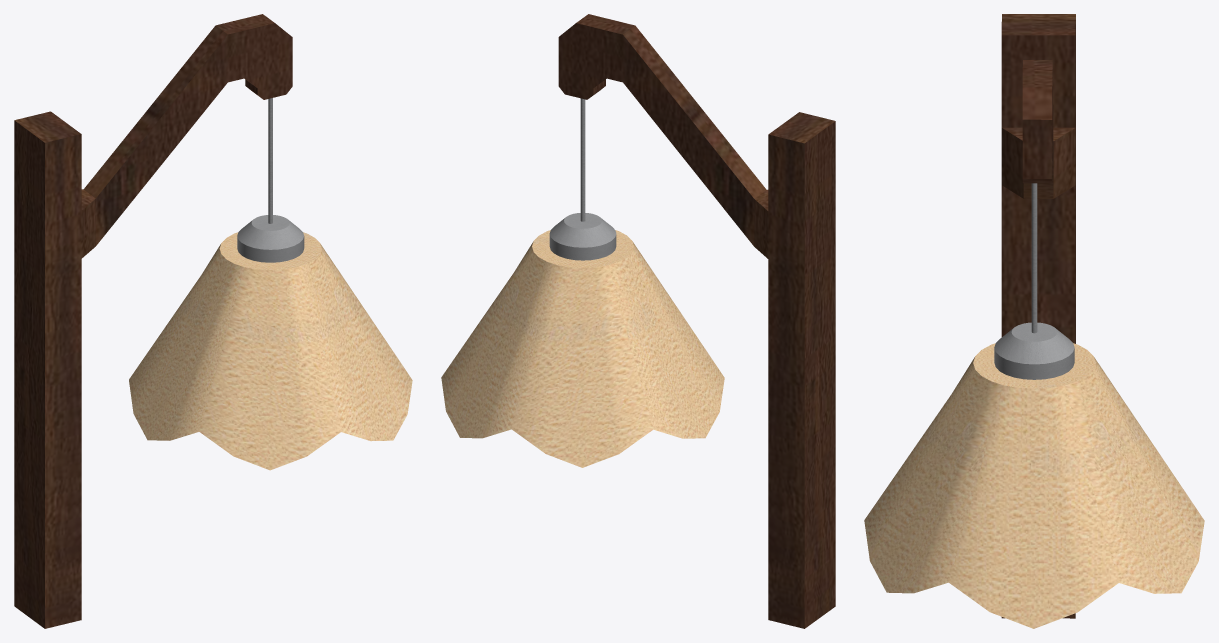
Rendered from wall_lamp.glb.
3 renders of one model, left to right at view 1: azimuth 30°, elevation 25°; view 2: azimuth 150°, elevation 25°; view 3: azimuth 270°, elevation 25°, orthographic. The views are drawn at different scales.
Parts seen in each view (by area): view 1: pCylinder73; view 2: pCylinder73; view 3: pCylinder73.
Boxes of the visible parts, x1,y1,x2,y2 form: pCylinder73: (14,14,412,628); pCylinder73: (441,14,835,628); pCylinder73: (864,14,1204,628).
Bounding box in the file's own units: 0.4827 × 0.6891 × 0.3275.
Materials: 1 (1 with a texture image).
